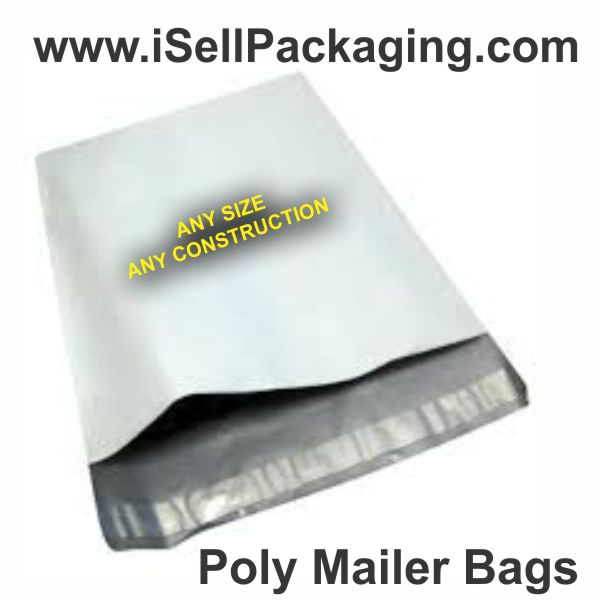good-parcel: (37, 78, 528, 549)
